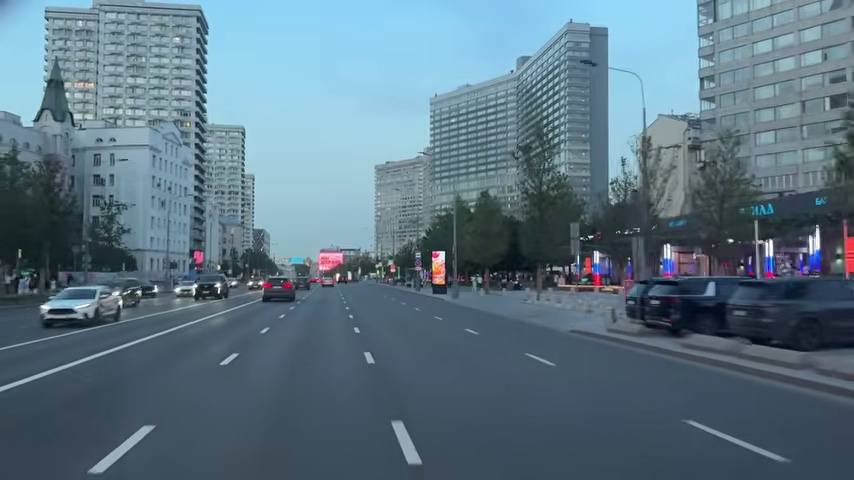apagada: (106, 422, 157, 470), (118, 422, 156, 456)
